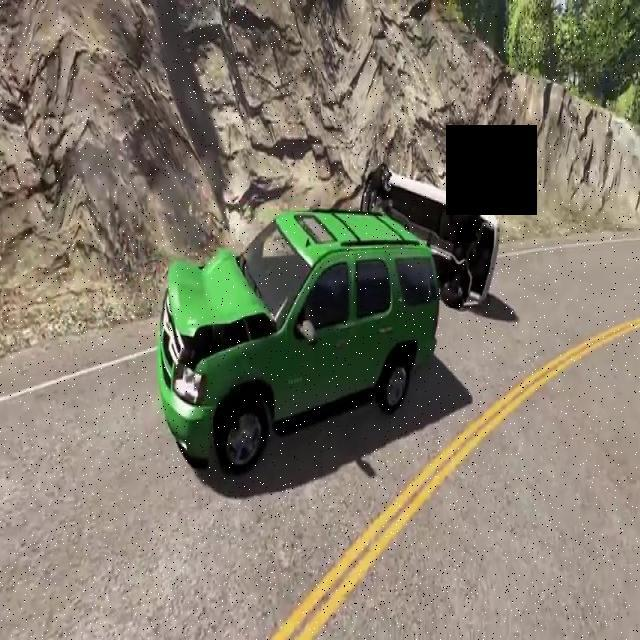severe: (359, 152, 505, 318)
